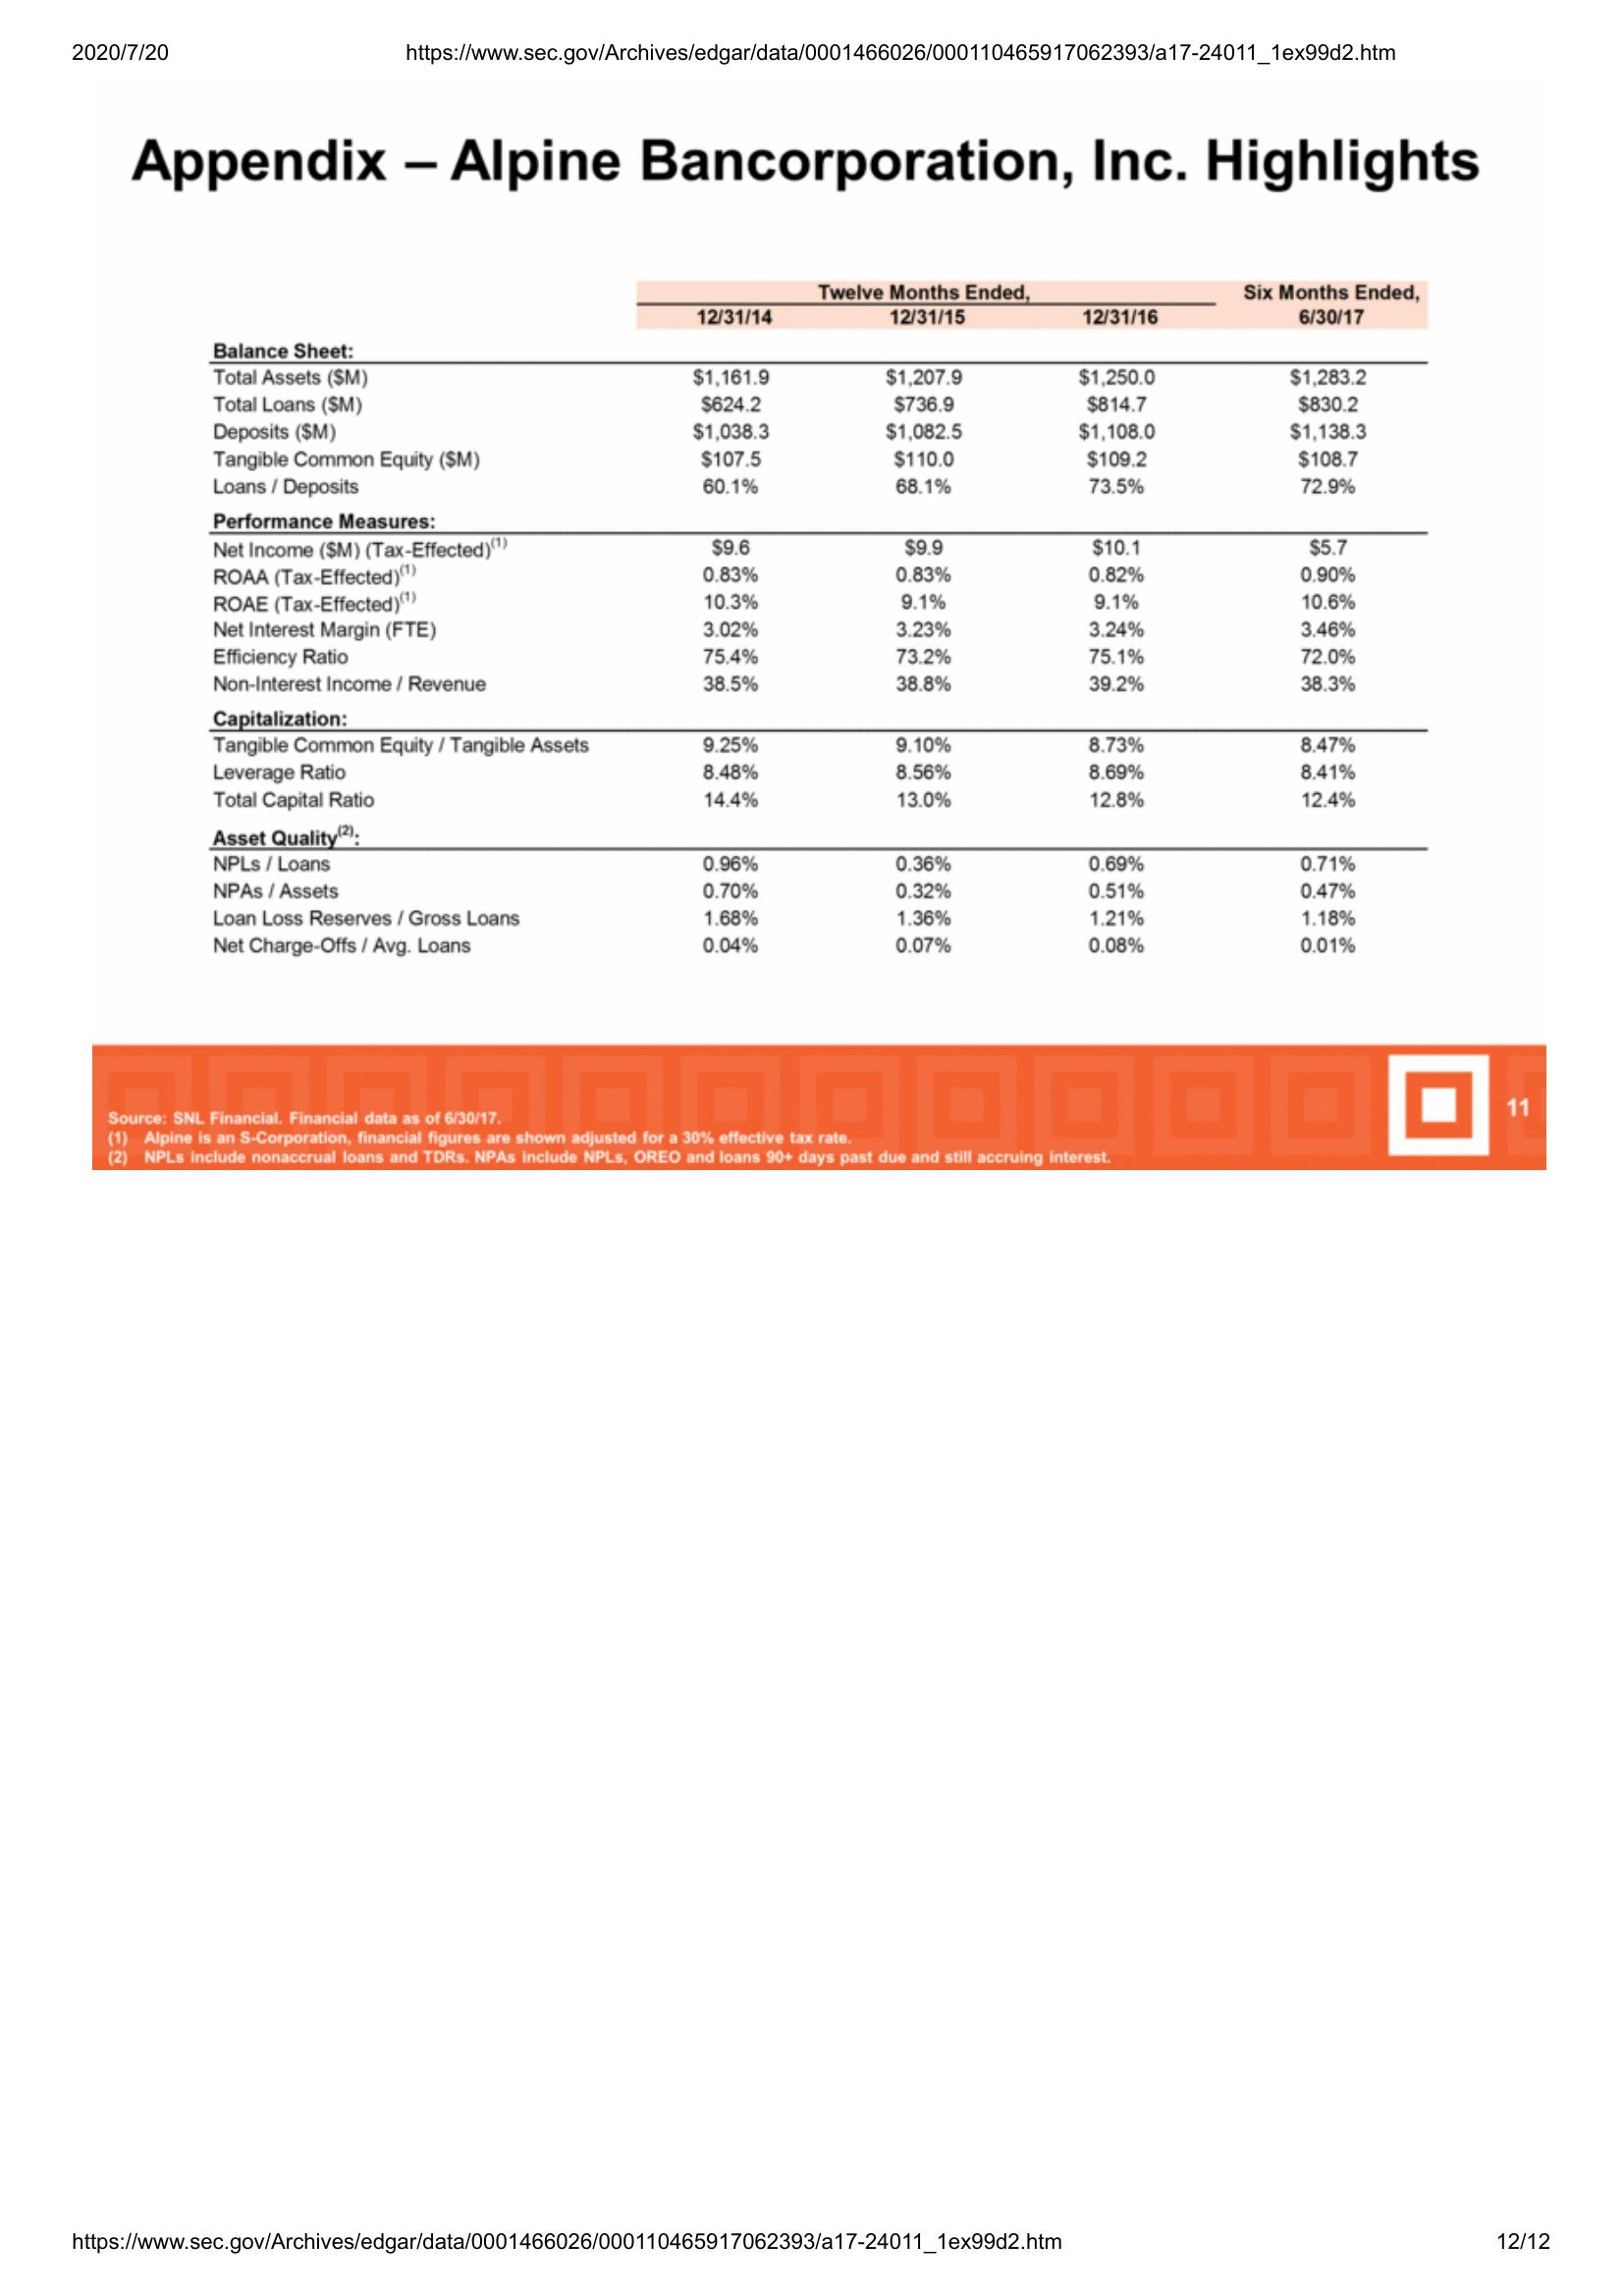table: (209, 276, 1435, 965)
